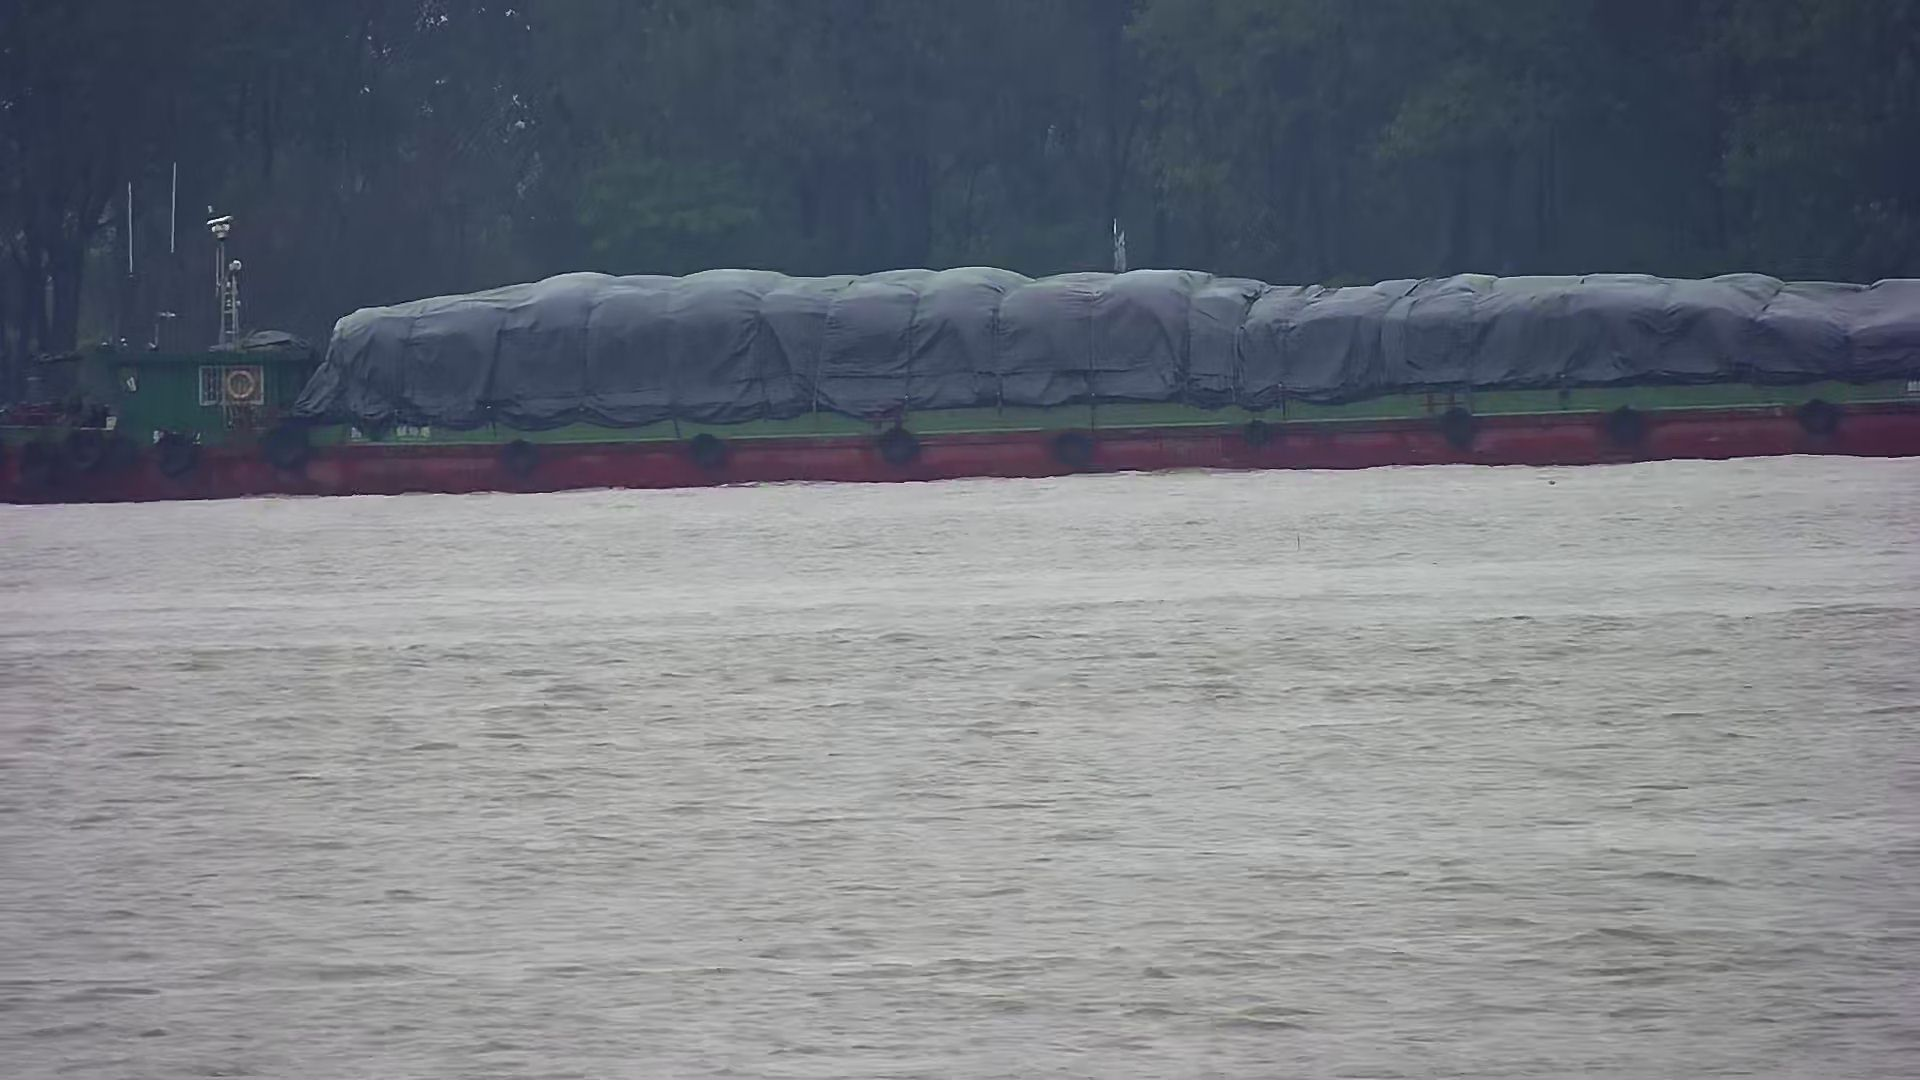ship: (1, 211, 1919, 506)
